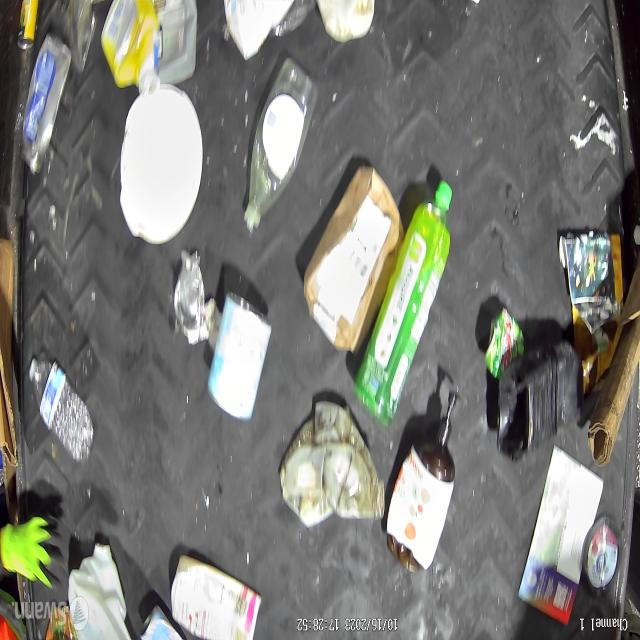can: (207, 276, 267, 428)
non_white_jug: (354, 185, 452, 431)
plastic_bottle: (20, 343, 94, 468)
